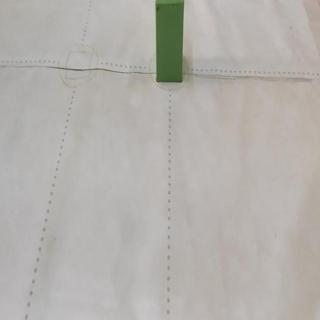greenbox: (156, 1, 184, 84)
